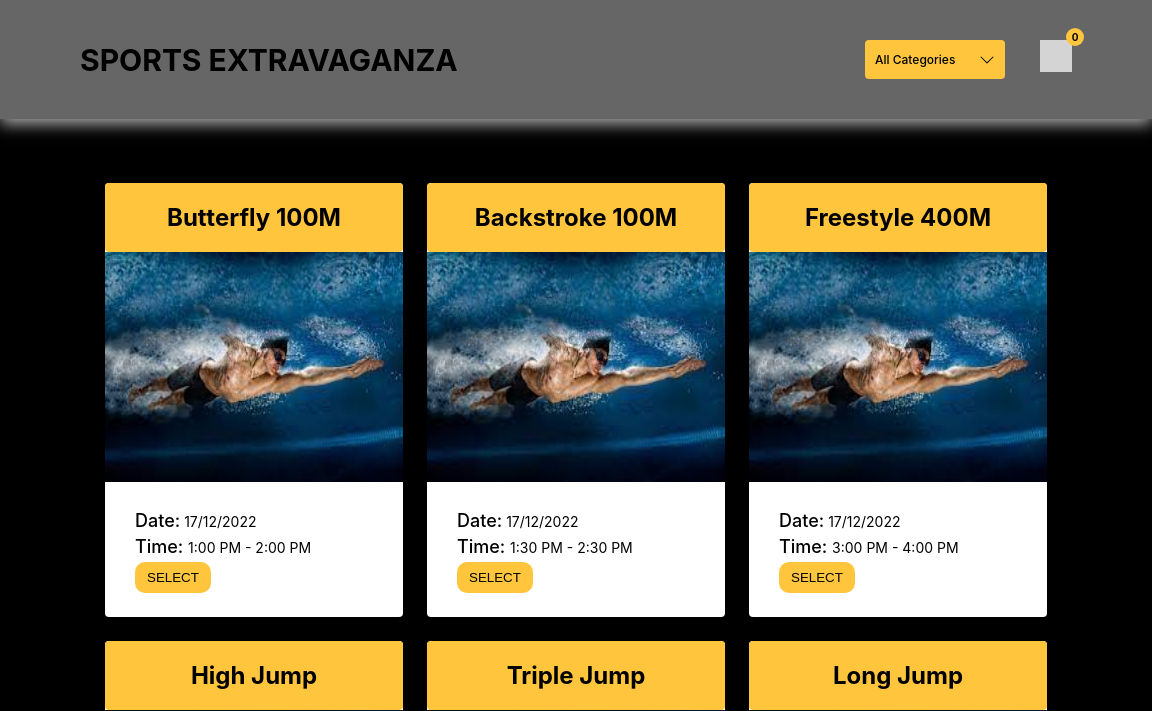
it: Main Page › Selected events should be reduced on unselecting events
expect the text "Butterfly 100M" is shown: met, box left=105, top=183, right=403, bottom=252
Click the 1st button "SELECT": {"x": 173, "y": 578} left=135, top=562, right=211, bottom=593
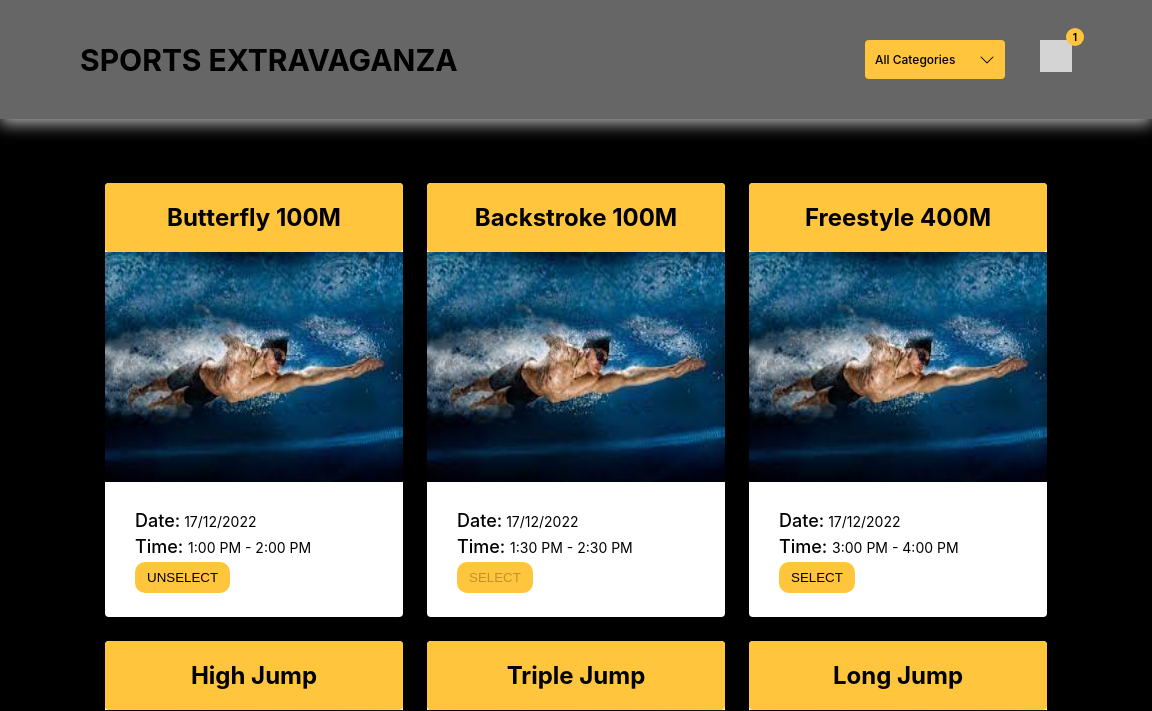
Click the button "UNSELECT": {"x": 183, "y": 578} left=135, top=562, right=230, bottom=593
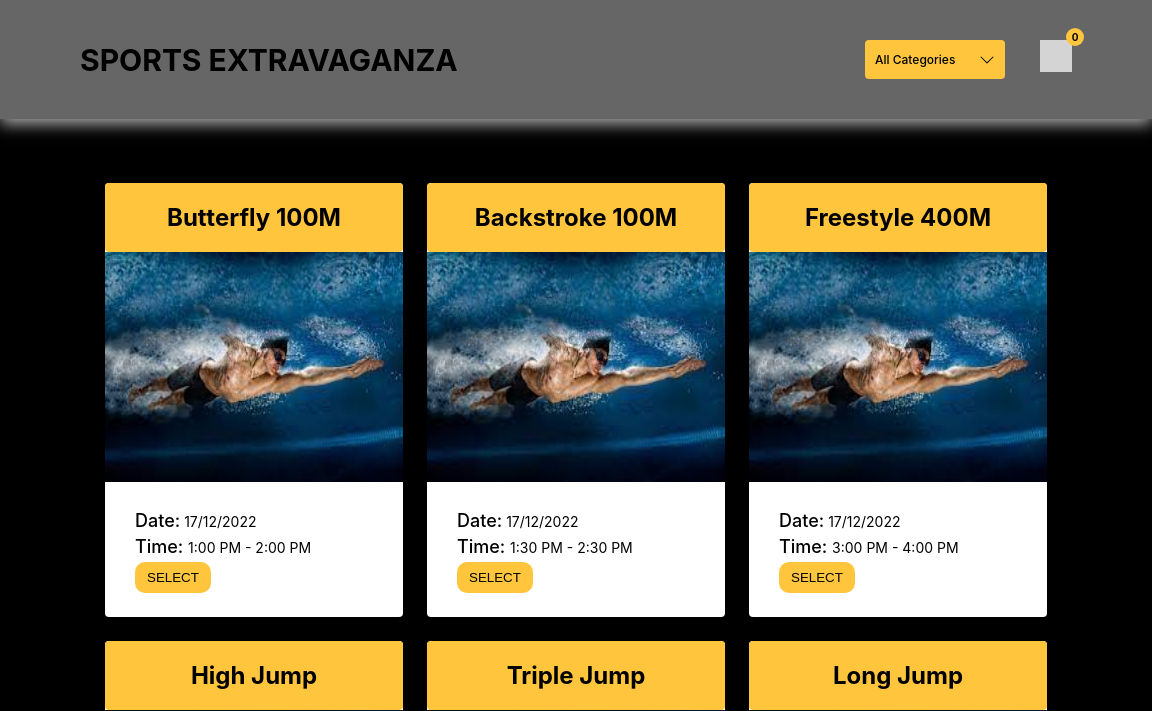
expect the icon with test id "icon_notification" reads "0": met, box left=1072, top=31, right=1078, bottom=43
